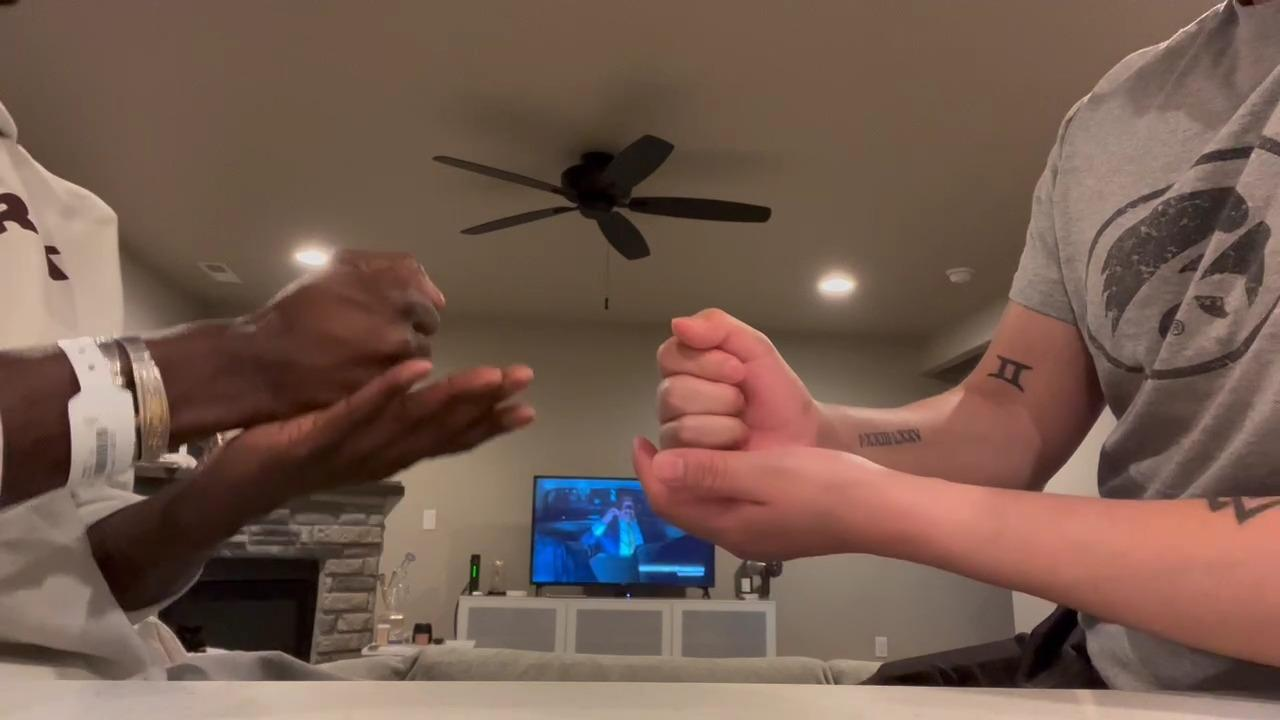Rock: (258, 240, 449, 408), (650, 307, 817, 456)
